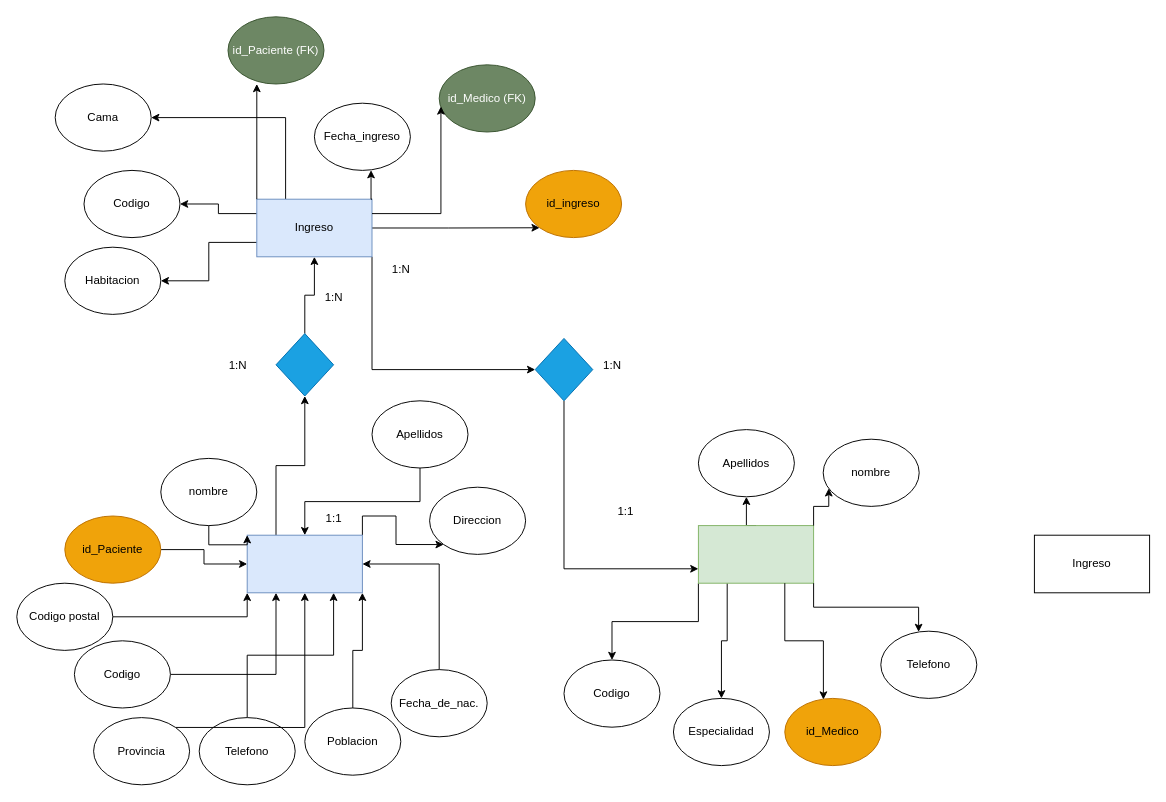
This 1166x802 diagram has some shape labels left out. The shapes that lost their labels are listed below. From the top down, each one's centre as x and y in pixels, then its label:
At (x=304, y=364): "realiza".
At (x=563, y=369): "atiende".
At (x=304, y=563): "Paciente".
At (x=755, y=554): "Medico".
